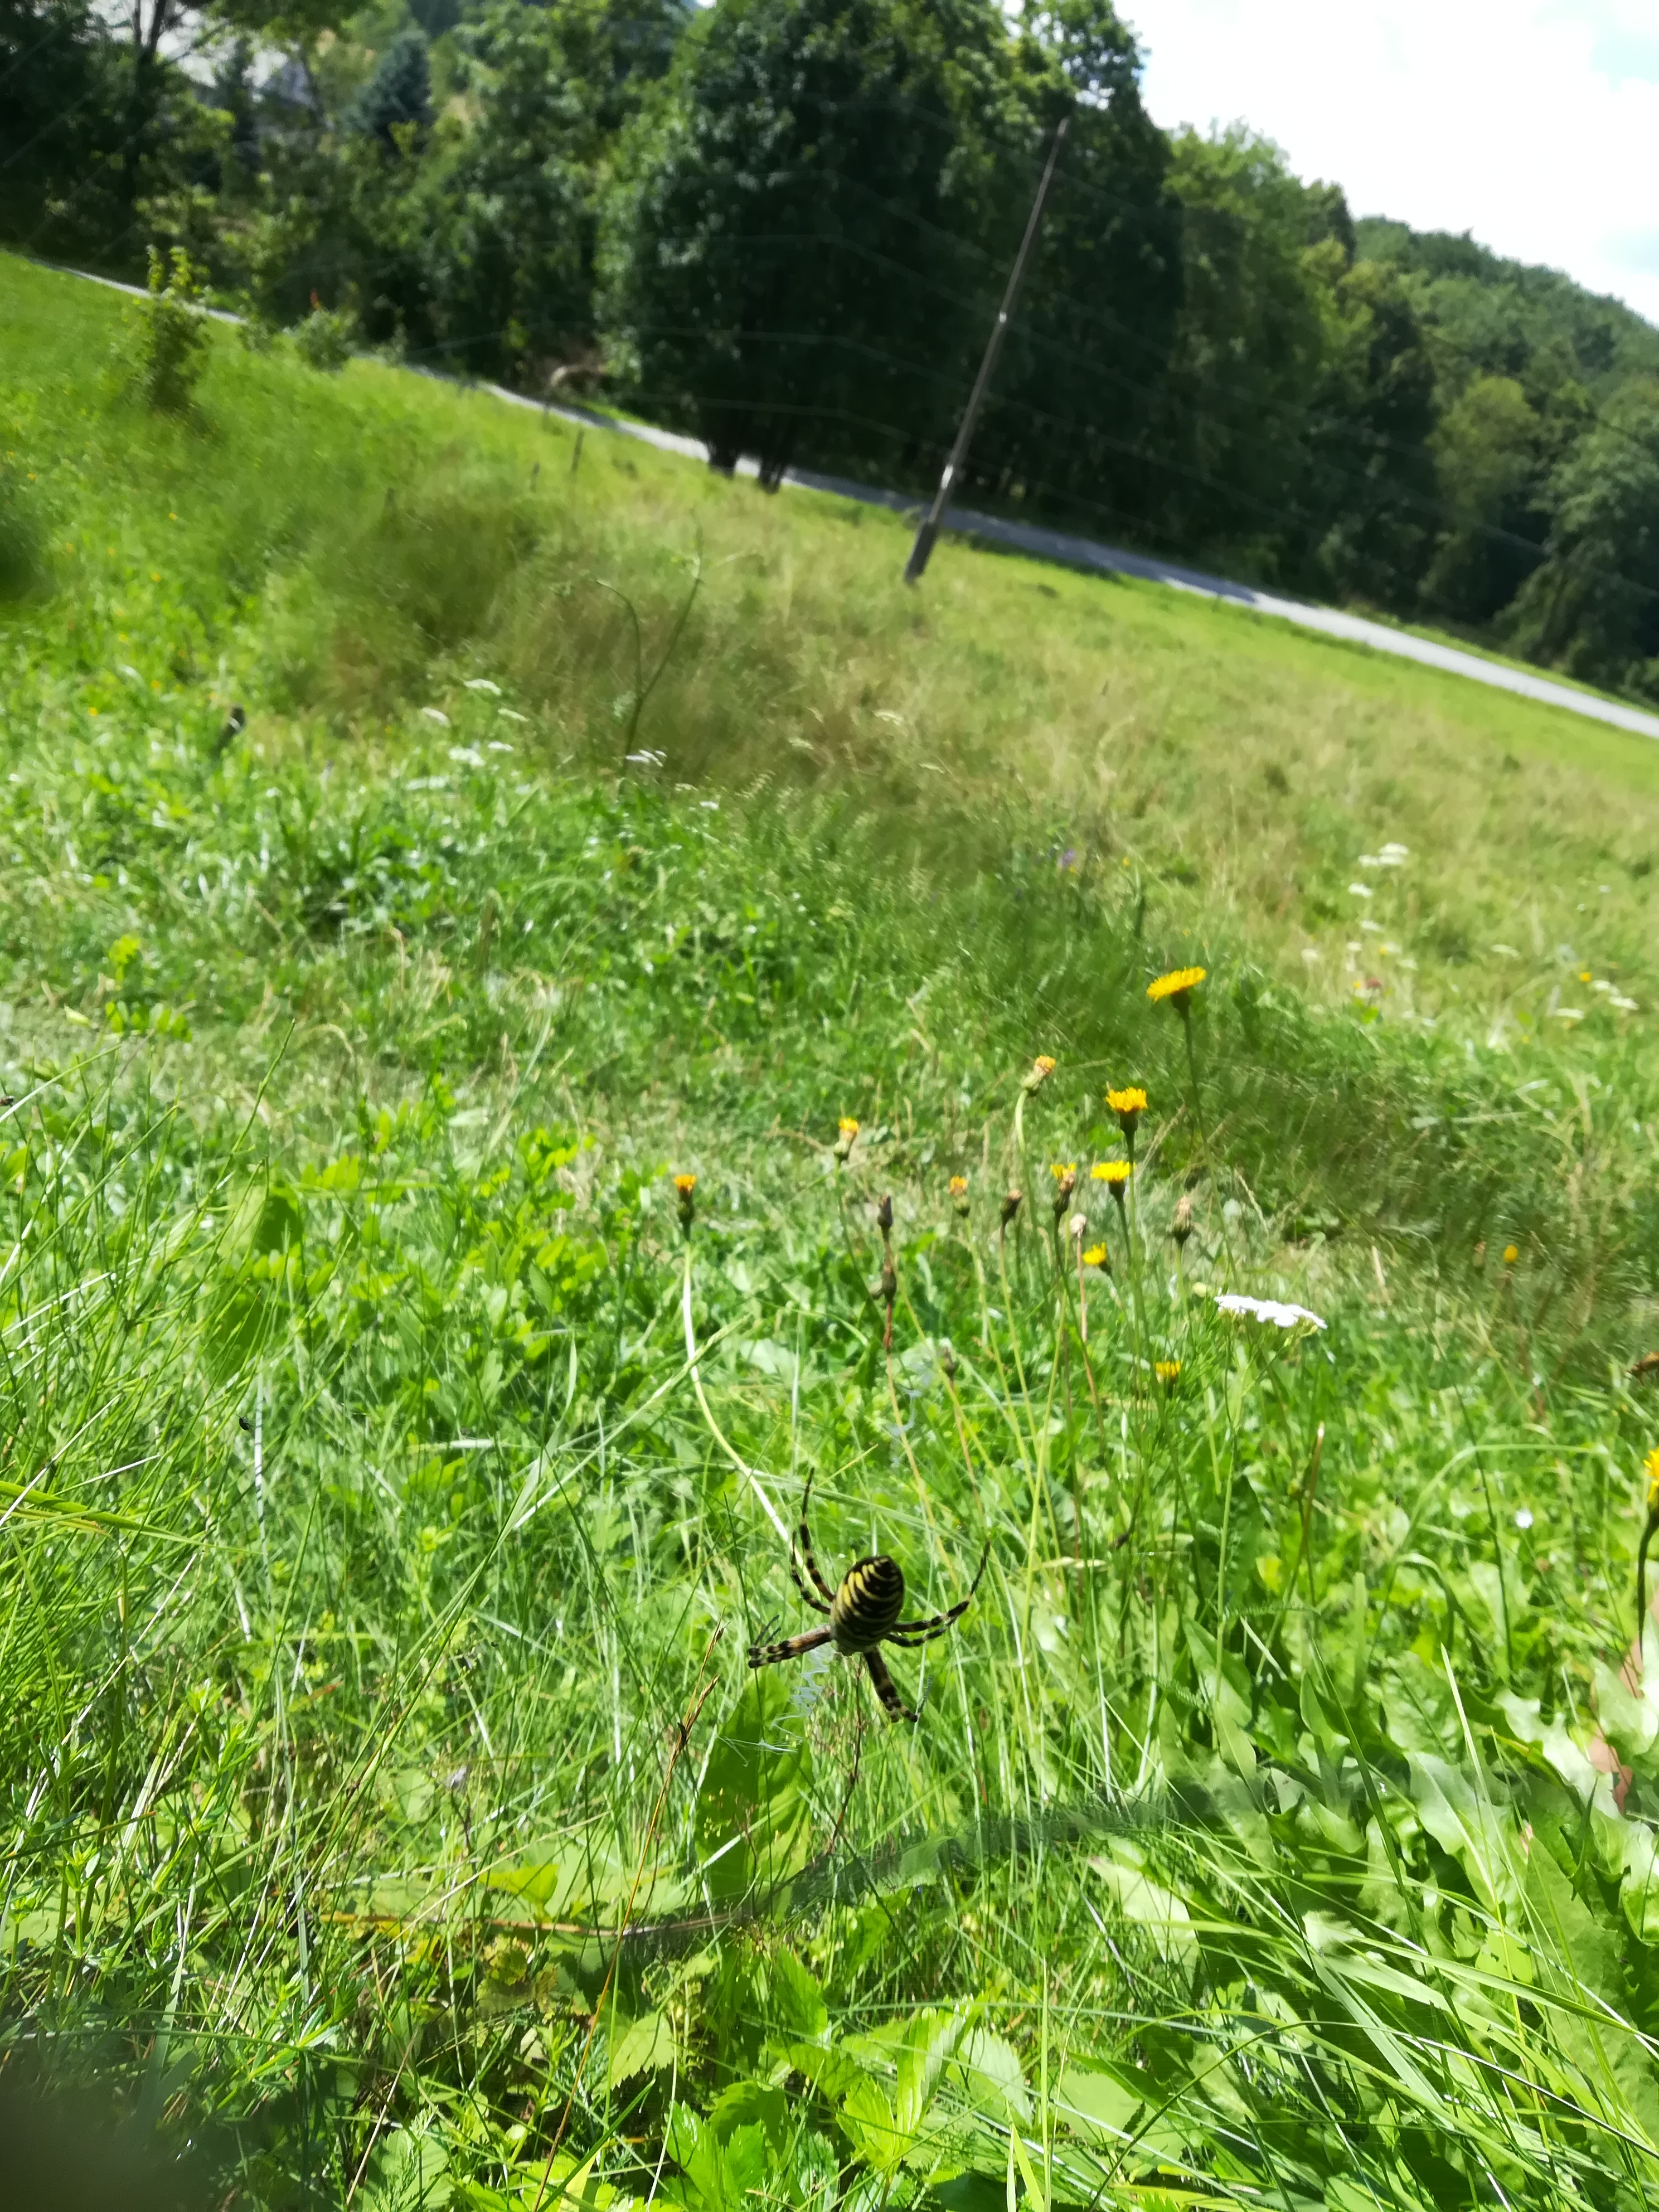spider: (725, 1437, 1002, 1775)
